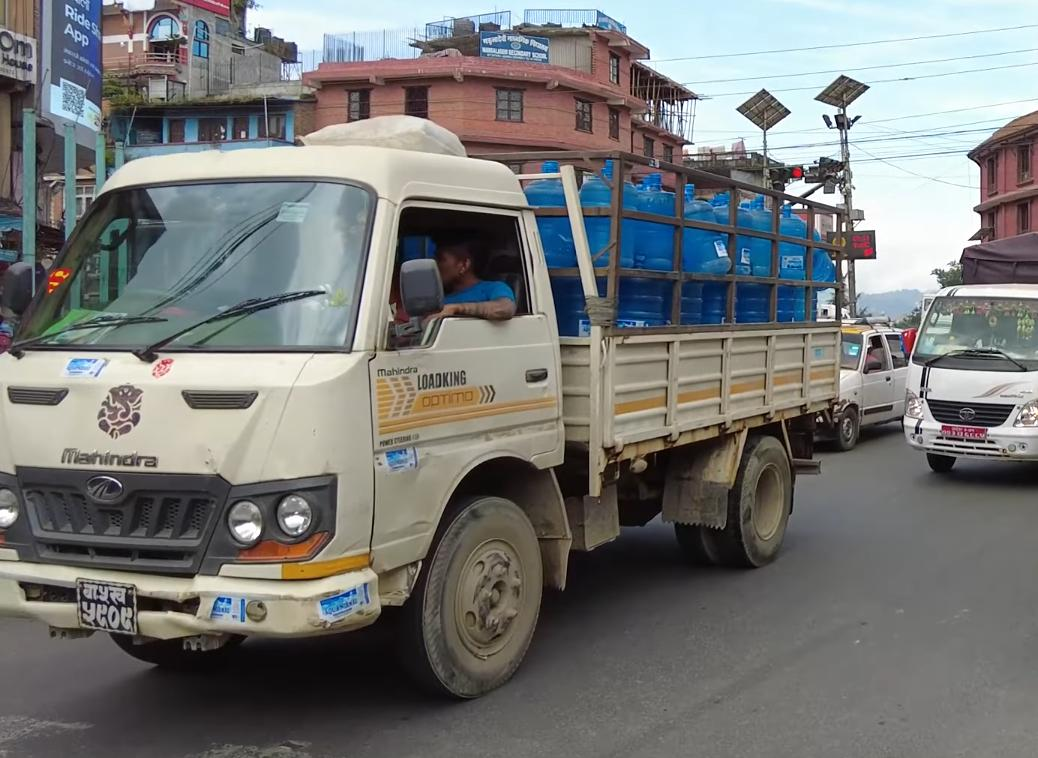mini_truck: (4, 106, 849, 700), (910, 239, 1038, 509)
taxi: (827, 299, 905, 458)
